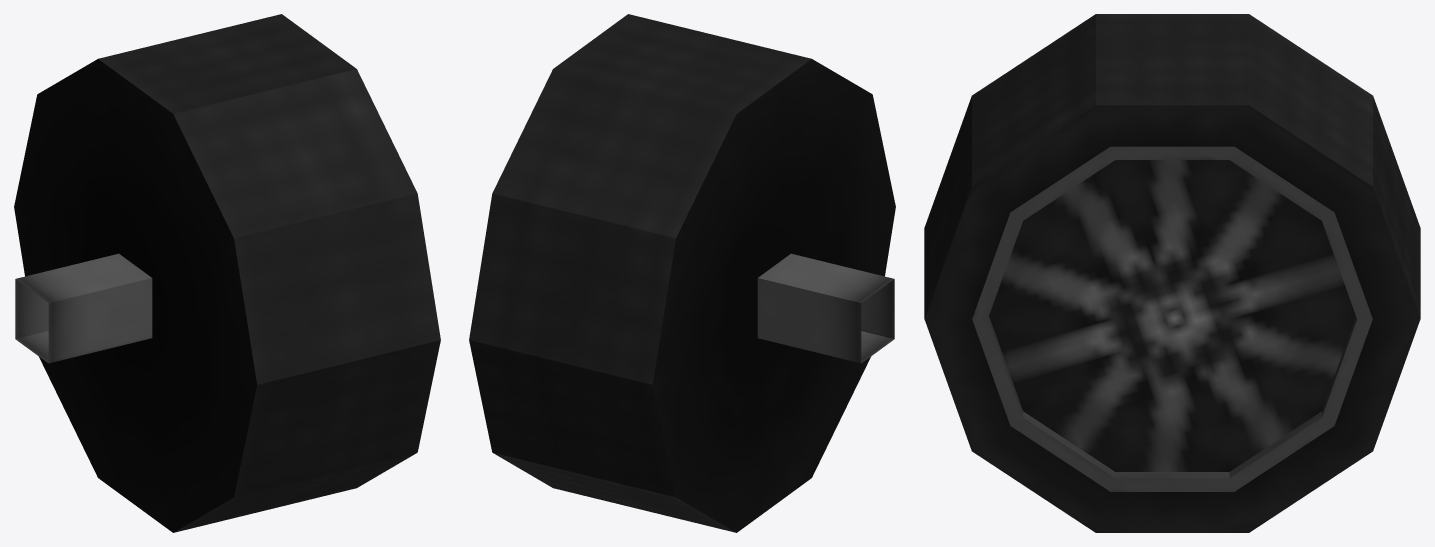
The model's file is bmw_wheel.obj.
The picture shows the model from 3 angles, left to right: view 1: azimuth 30°, elevation 25°; view 2: azimuth 150°, elevation 25°; view 3: azimuth 270°, elevation 25°; orthographic projection.
Parts seen in each view (by area): view 1: BMW_wheel_Cube.001; view 2: BMW_wheel_Cube.001; view 3: BMW_wheel_Cube.001.
Boxes of the visible parts, x1,y1,x2,y2 form: BMW_wheel_Cube.001: (14, 14, 440, 532); BMW_wheel_Cube.001: (469, 14, 895, 532); BMW_wheel_Cube.001: (924, 14, 1420, 532).
Size of the model in its own units: 1.97 by 2.75 by 2.89.
